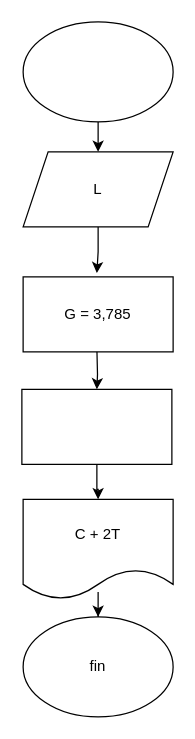
This 195x739 diagram has some shape labels left out. The centre of each missing label's shape, as x and y in pixels:
inicio: [97,71]
P = L/G: [96,426]
